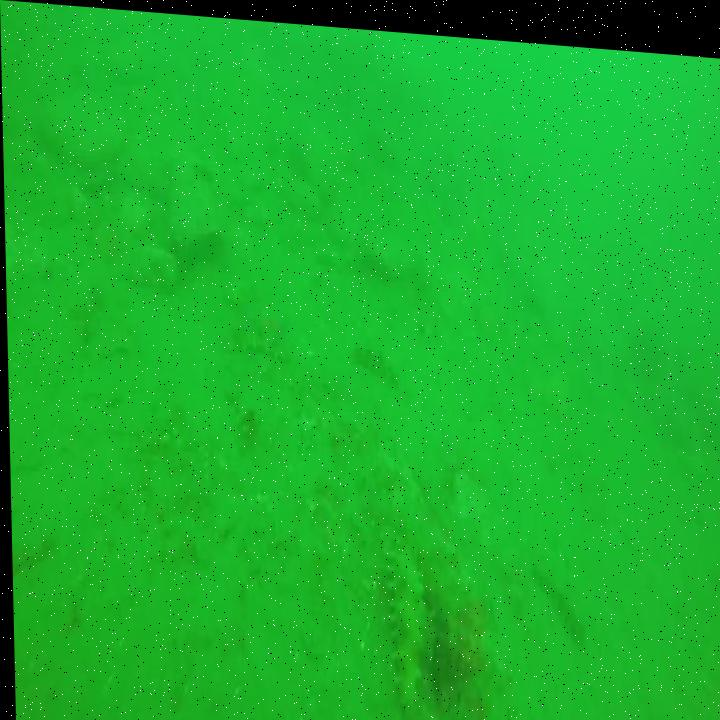holothurian: (379, 536, 429, 717), (529, 549, 584, 629), (349, 331, 396, 377), (221, 329, 288, 361)
